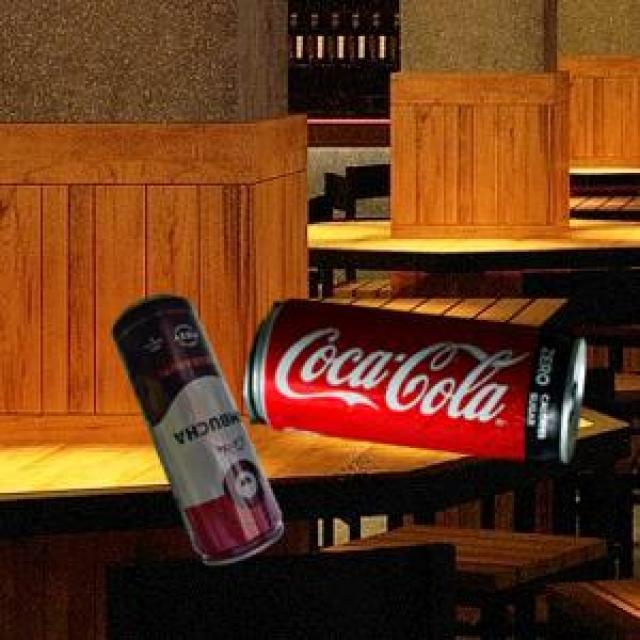Can: (242, 295, 583, 460), (110, 291, 281, 562)
